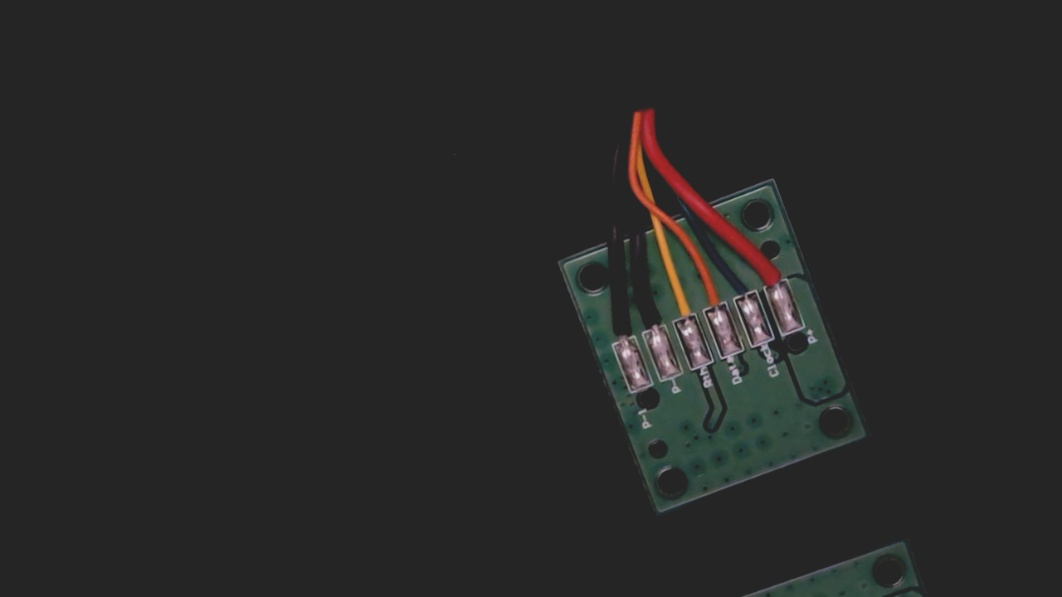Black: (625, 278, 673, 345)
Black1: (596, 295, 640, 357)
Green: (720, 257, 762, 314)
Orange: (688, 259, 733, 324)
Red: (748, 243, 793, 304)
Yellow: (655, 268, 702, 335)
